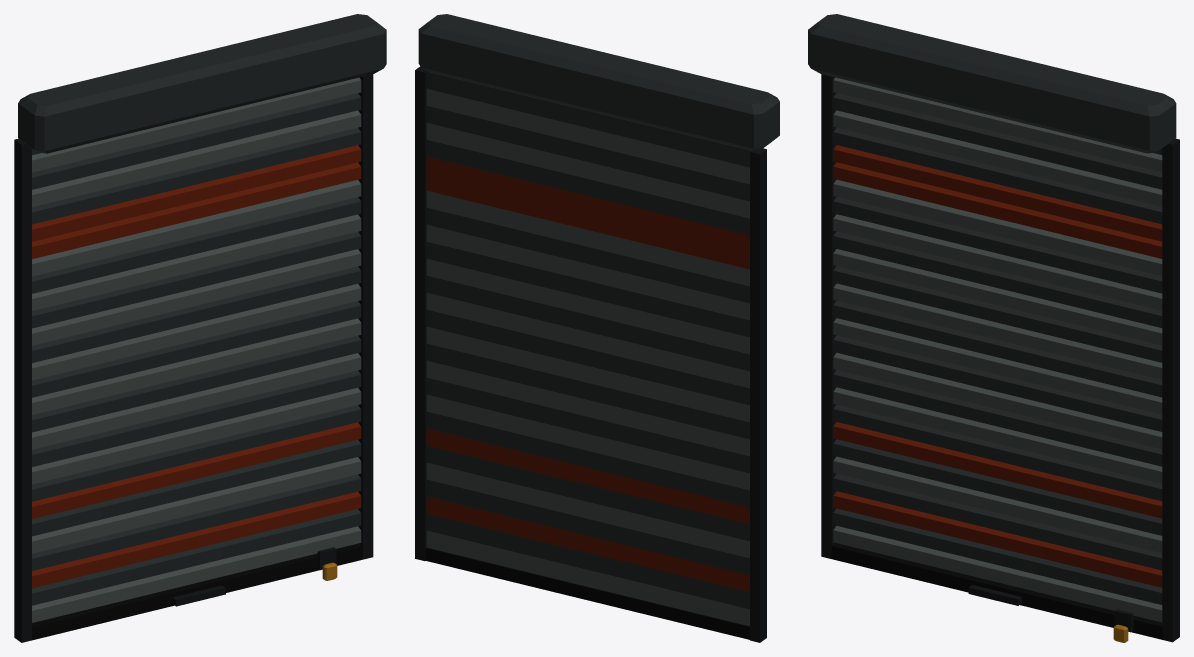
The model's file is SM_Shop_SecurityShutter_Door.glb.
3 renders of one model, left to right at view 1: azimuth 30°, elevation 25°; view 2: azimuth 150°, elevation 25°; view 3: azimuth 330°, elevation 25°, orthographic.
Visible parts, largest first — view 1: SM_Shop_SecurityShutter_Door; view 2: SM_Shop_SecurityShutter_Door; view 3: SM_Shop_SecurityShutter_Door.
Boxes of the visible parts, <box> form: SM_Shop_SecurityShutter_Door: <box>14,14,386,642</box>; SM_Shop_SecurityShutter_Door: <box>415,14,779,642</box>; SM_Shop_SecurityShutter_Door: <box>808,14,1179,642</box>.
Size of the model in its own units: 1.7 by 2.54 by 0.2.
1 material, 1 textured.
